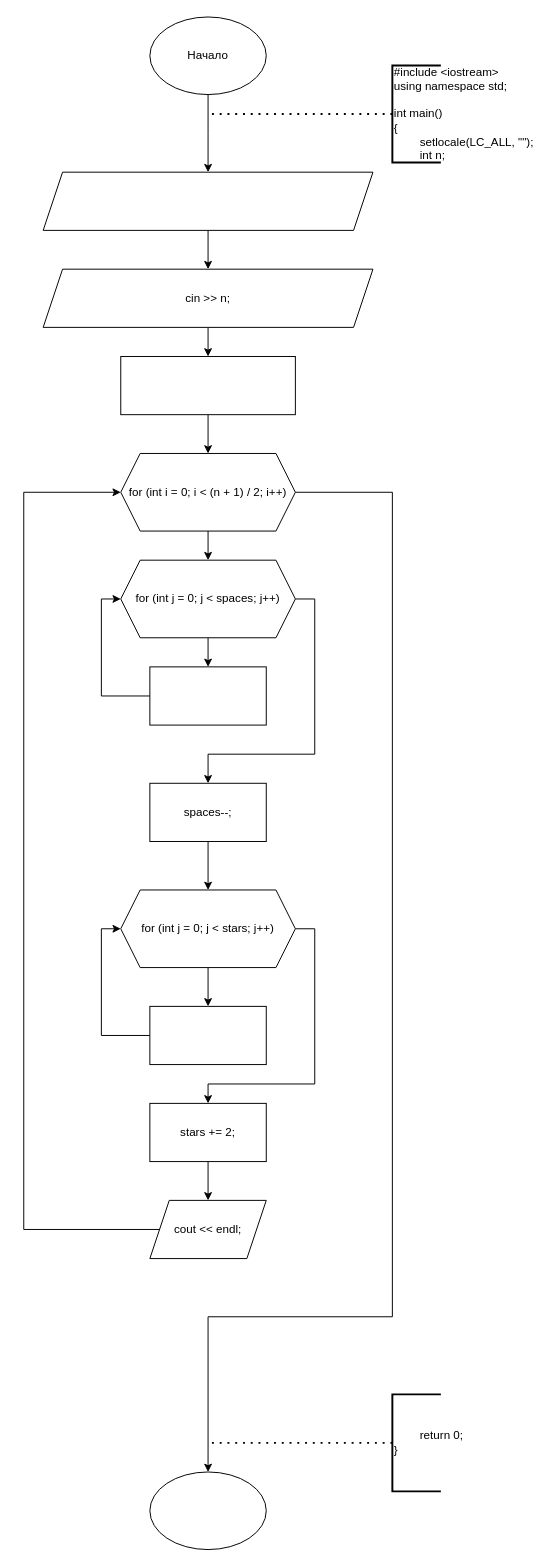
Image size: 551x1567. Some labels were removed from this diagram. Here are the shapes that lost their labels. From the top down, the centre of each, then its label:
(x=207, y=200): cout << "Введите натуральное нечетное число больше 3: \n";
(x=207, y=385): int spaces = n / 2, stars = 1;
(x=207, y=695): cout << " ";
(x=207, y=1035): cout << "*";
(x=207, y=1510): Конец
